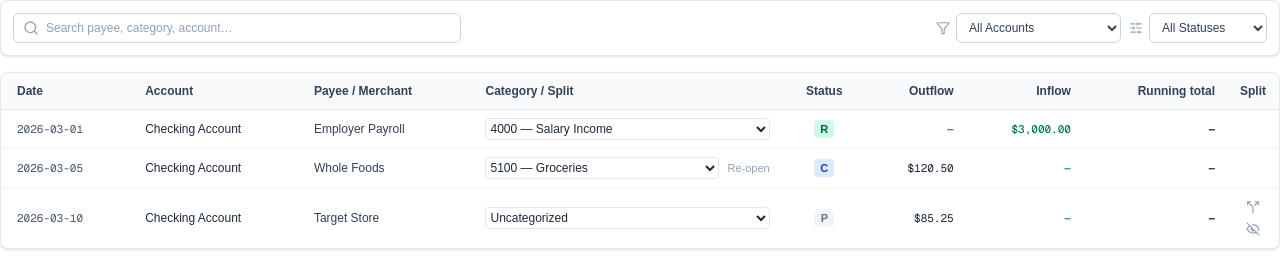
Scenario: TransactionRegister › lists categories apart from bank accounts, and filters to one
The width and height of the screenshot is (1280, 267).
Select "Salary Income" in the dropdown named "filter by account": (1038, 28) x1=956 y1=13 x2=1121 y2=43
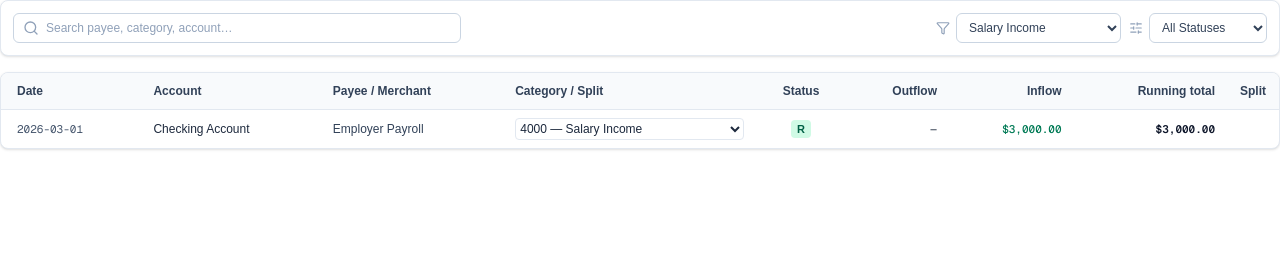
Expected: the text "Employer Payroll" is shown, x1=321 y1=110 x2=503 y2=148
Result: the text "Whole Foods" is gone
